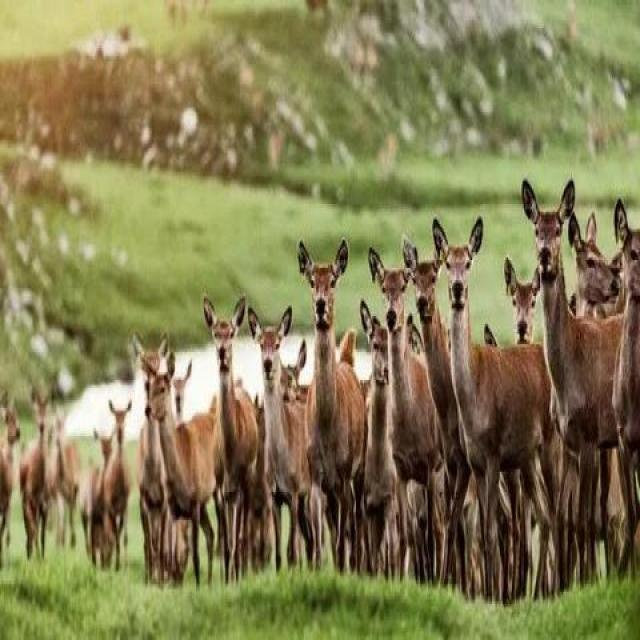deer: (292, 228, 401, 612), (426, 210, 564, 510), (526, 185, 629, 466), (140, 352, 250, 555), (204, 303, 286, 572), (74, 390, 148, 577), (20, 383, 61, 542), (55, 394, 88, 553)
